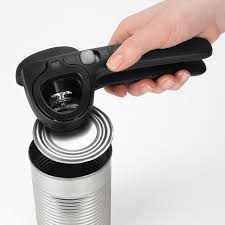can: (24, 118, 124, 225)
